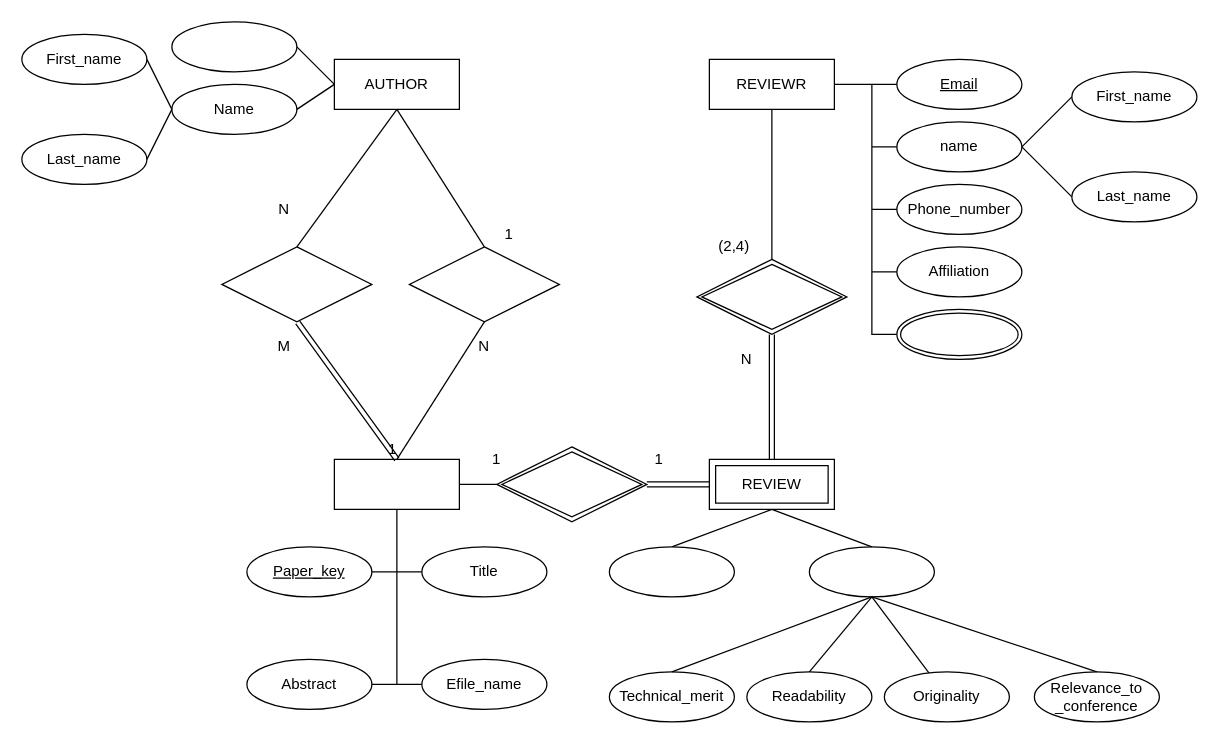
This 1219x744 diagram has some shape labels left out. Here are the shapes that lost their labels. From the top down, the centre of each, then its label:
[234,46]: Email_id
[296,284]: WROTE
[483,284]: CAN_BE_ CONTACTED _FOR
[771,296]: WRITES
[959,333]: Topics_of_interest
[396,483]: PAPER
[571,484]: HAS_A
[671,571]: Recommendation
[871,571]: Categories_results
